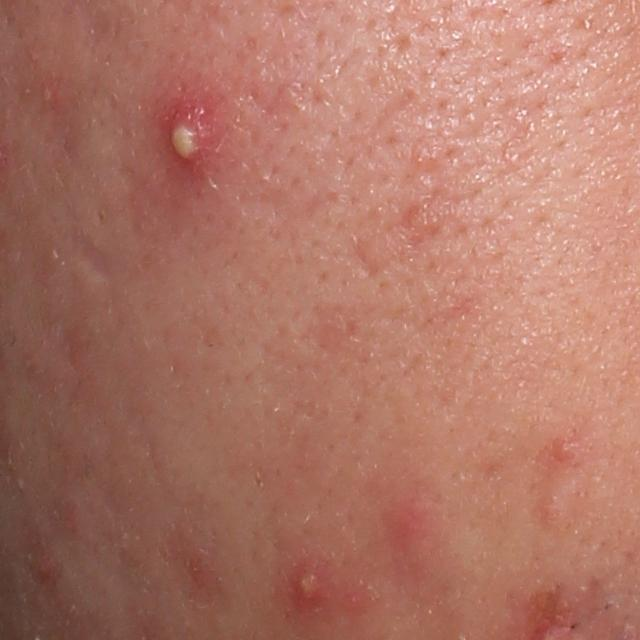atrophic_scar: (70, 224, 115, 285), (392, 196, 441, 248), (350, 231, 383, 286)
papule: (551, 436, 585, 462), (33, 561, 56, 588)
pustule: (148, 81, 226, 200), (288, 549, 349, 609)
